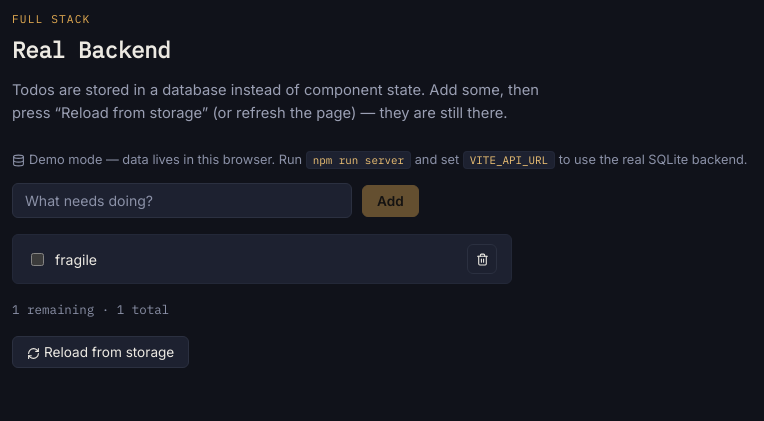
it: Task 35 – real backend › rolls back an optimistic toggle when the server rejects it
Click the checkbox.
click(38, 259)  # box [31,253,44,266]
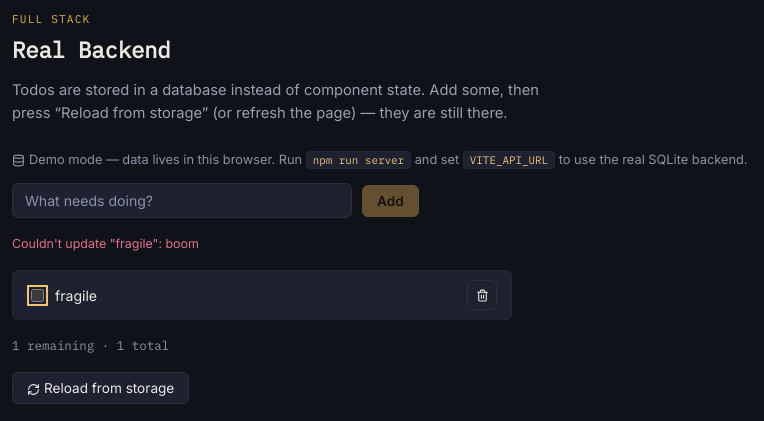
Expected: the checkbox is not checked, [31,289,44,302]
Result: the message reads "Couldn't update \"fragile\": boom" at [12,236,199,251]
